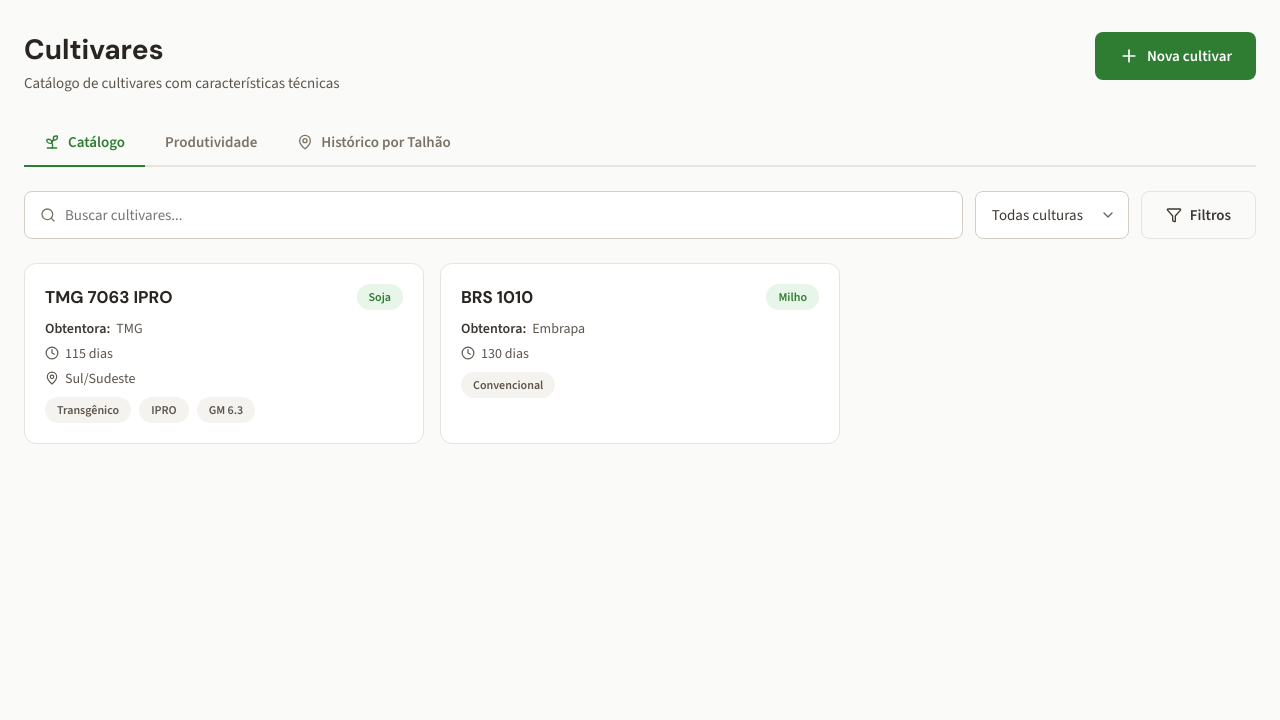
Test: CultivarsPage › should filter by type in advanced filters (CA7)
Click the button "Filtros" at [1198, 215], box [1141,191,1256,239]
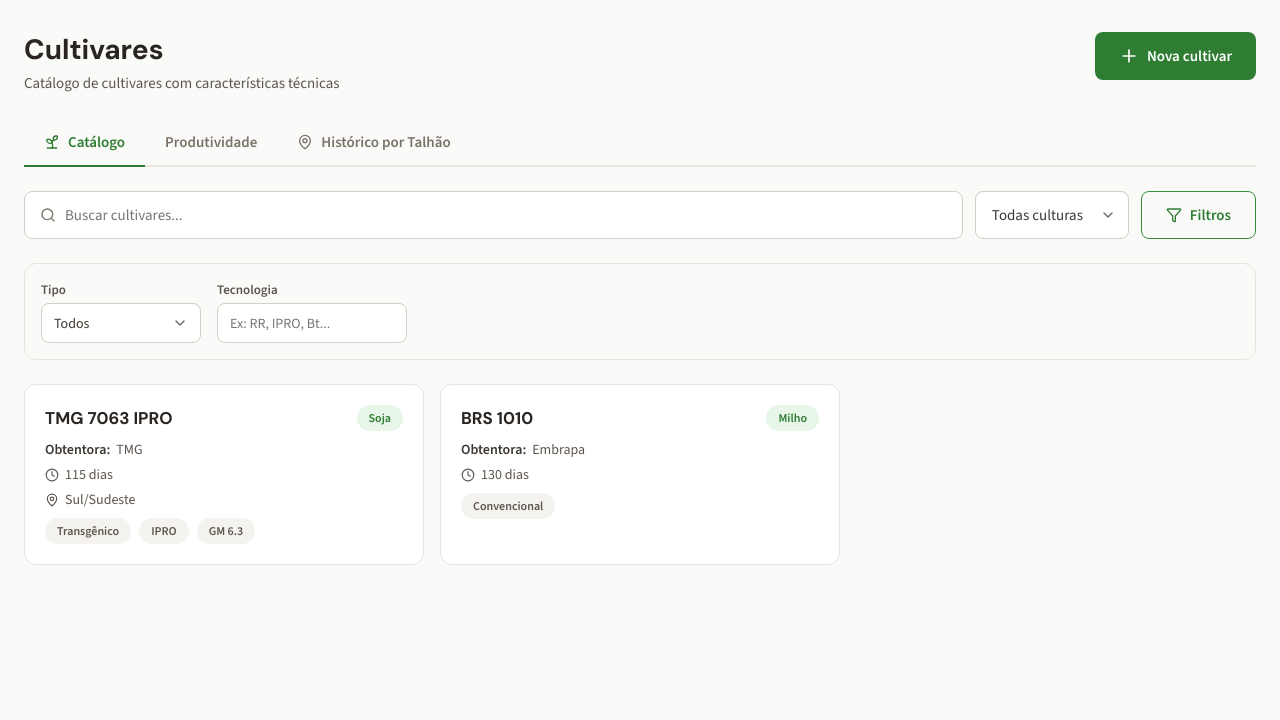
Select "Transgênico" in the dropdown labelled "Tipo" at [121, 323], box [41,303,201,343]
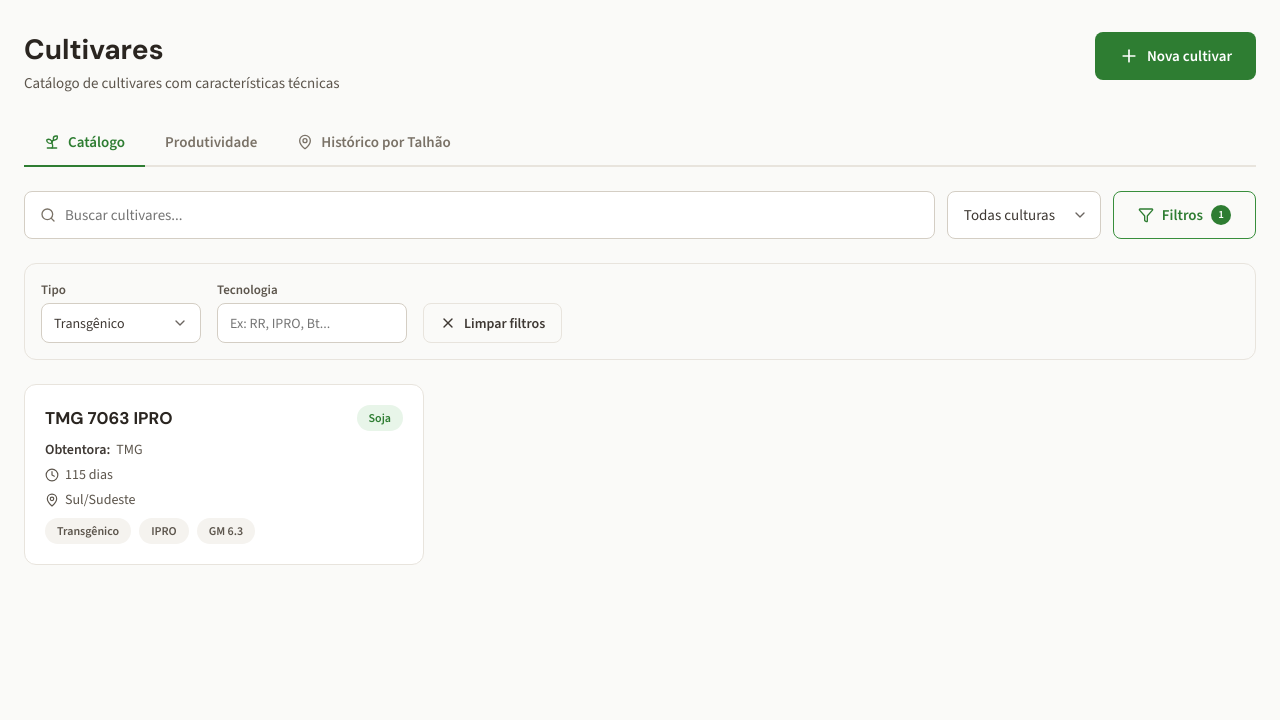
Expected: the heading "TMG 7063 IPRO" is shown, [45,407,173,429]
Now the button "BRS 1010" is gone
